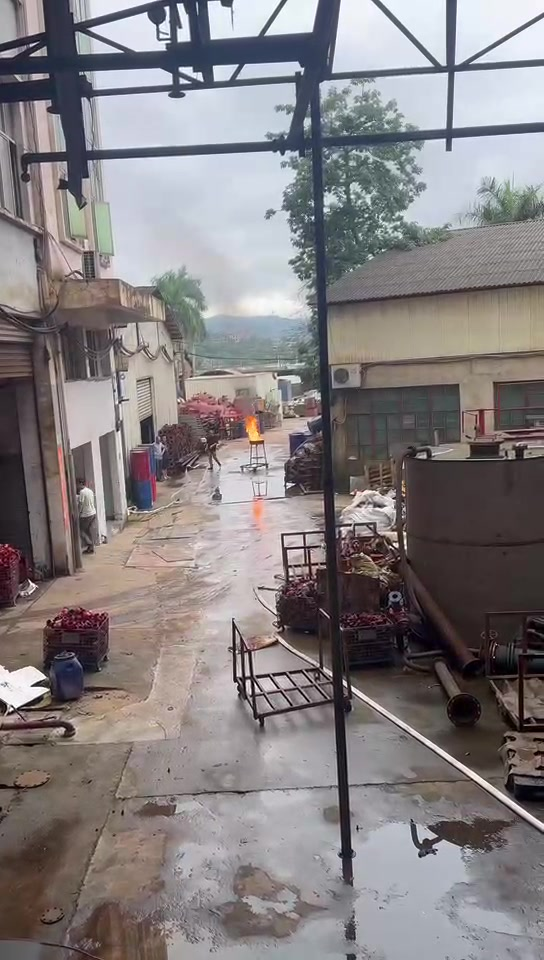fire: (245, 415, 262, 440)
